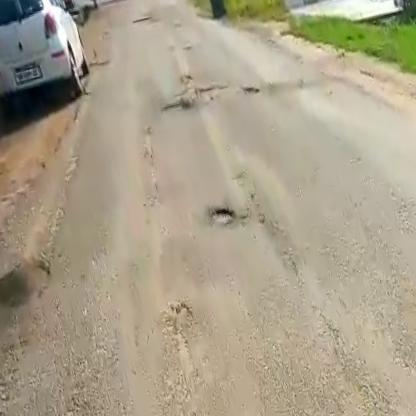pothole: (202, 196, 245, 234)
